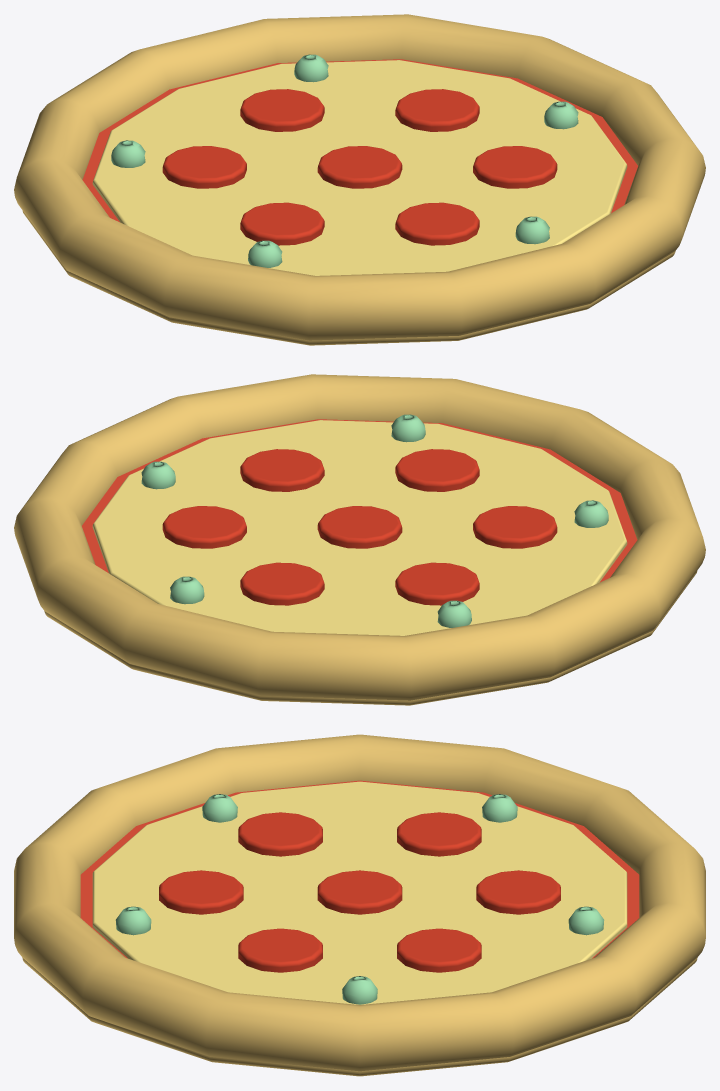
Rendered from Pizza.glb.
3 renders of one model, top to bottom at view 1: azimuth 30°, elevation 25°; view 2: azimuth 150°, elevation 25°; view 3: azimuth 270°, elevation 25°, orthographic. The views are drawn at different scales.
Parts seen in each view (by area): view 1: pizzaCrust, pizzaCheese, pizzaTopping (×7), grassMint (×5), pizzaSauce; view 2: pizzaCrust, pizzaCheese, pizzaTopping (×7), grassMint (×5), pizzaSauce; view 3: pizzaCrust, pizzaCheese, pizzaTopping (×7), grassMint (×5), pizzaSauce.
Part boxes in pixels (bbox=[...]): pizzaCrust: bbox=[14, 14, 705, 345]; pizzaCheese: bbox=[92, 60, 627, 275]; pizzaTopping (×7): bbox=[162, 89, 557, 245]; grassMint (×5): bbox=[111, 54, 578, 267]; pizzaSauce: bbox=[82, 59, 637, 222]; pizzaCrust: bbox=[14, 374, 705, 705]; pizzaCheese: bbox=[92, 420, 627, 635]; pizzaTopping (×7): bbox=[162, 449, 557, 605]; grassMint (×5): bbox=[141, 414, 608, 627]; pizzaSauce: bbox=[82, 419, 637, 582]; pizzaCrust: bbox=[14, 734, 705, 1076]; pizzaCheese: bbox=[92, 781, 627, 1004]; pizzaTopping (×7): bbox=[159, 812, 560, 972]; grassMint (×5): bbox=[115, 794, 604, 1004]; pizzaSauce: bbox=[80, 780, 639, 958].
Size of the model in its own units: 0.492 by 0.0477 by 0.4797.
